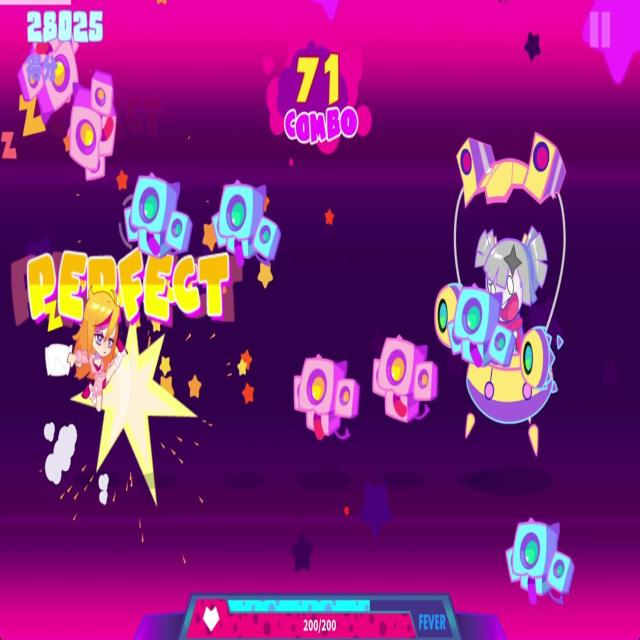jiqi: (364, 318, 441, 424), (209, 162, 284, 268), (123, 160, 196, 264), (505, 507, 576, 606), (290, 354, 363, 446), (67, 69, 117, 181), (19, 33, 82, 118)
qiangboss: (437, 110, 565, 453)
